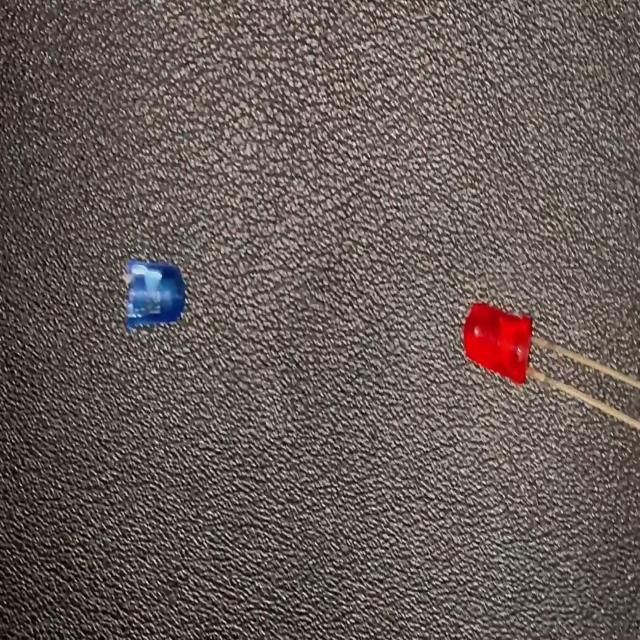LED: (462, 297, 640, 435)
missing-leg: (122, 255, 188, 335)
